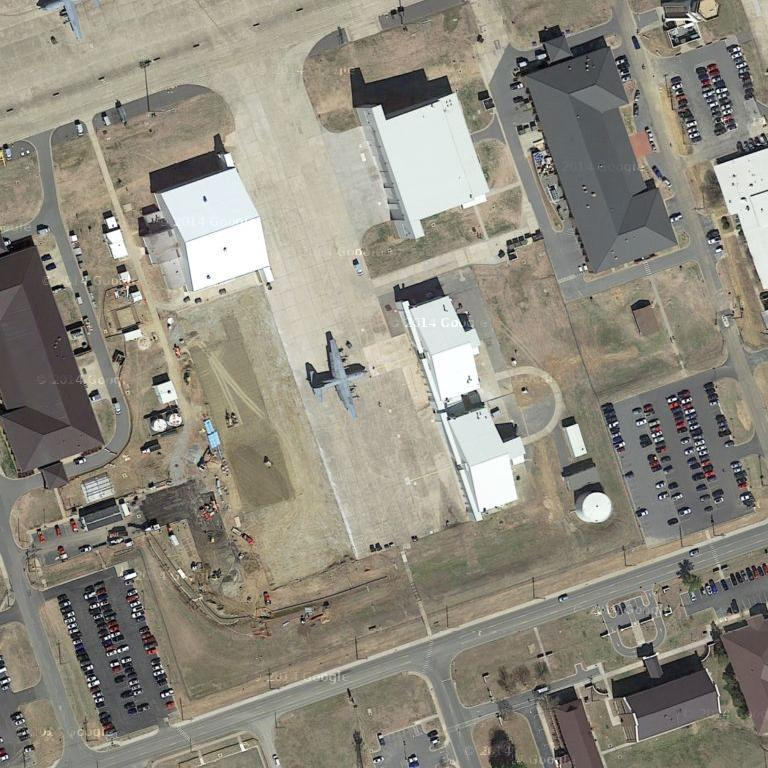C-130: (307, 336, 370, 412)
